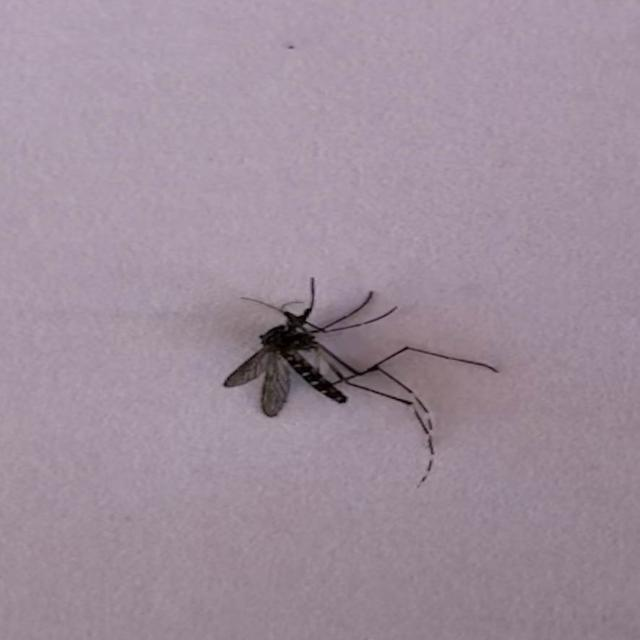albopictus: (210, 272, 486, 490)
